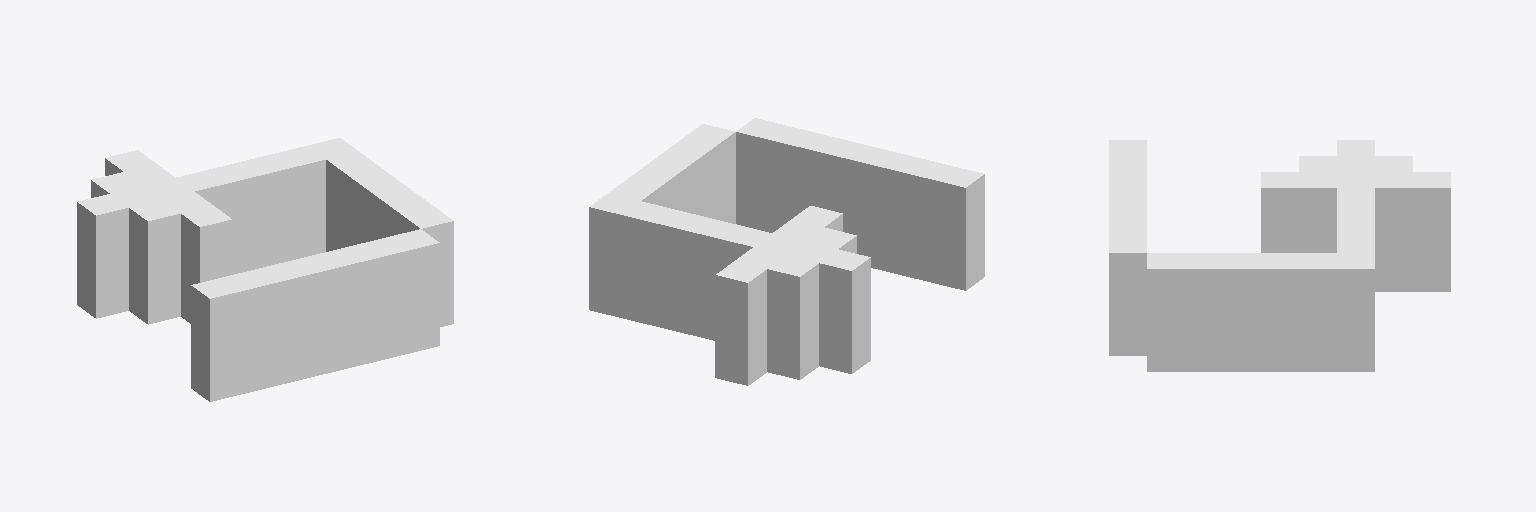
File: buttonShape_undo.obj
3 views of the same model, side by side, from view 1: azimuth 30°, elevation 25°; view 2: azimuth 150°, elevation 25°; view 3: azimuth 270°, elevation 25° (orthographic).
Bounding box in the file's own units: 8 × 3 × 9.